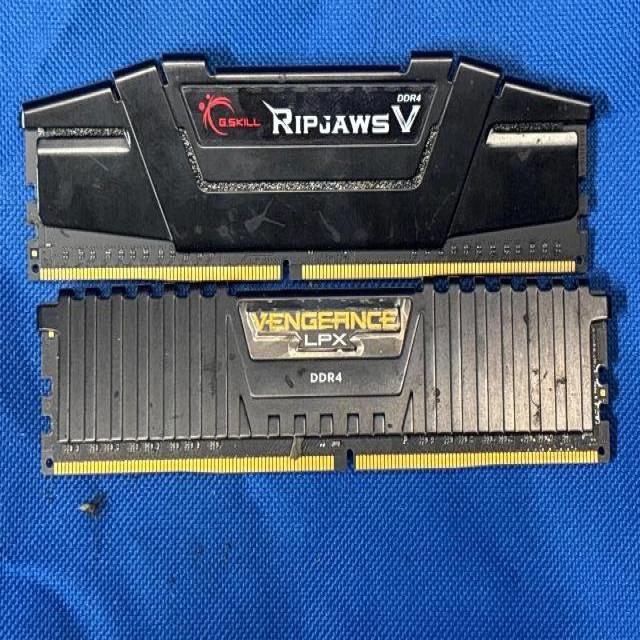RAM: (19, 52, 593, 284), (34, 285, 614, 478)
